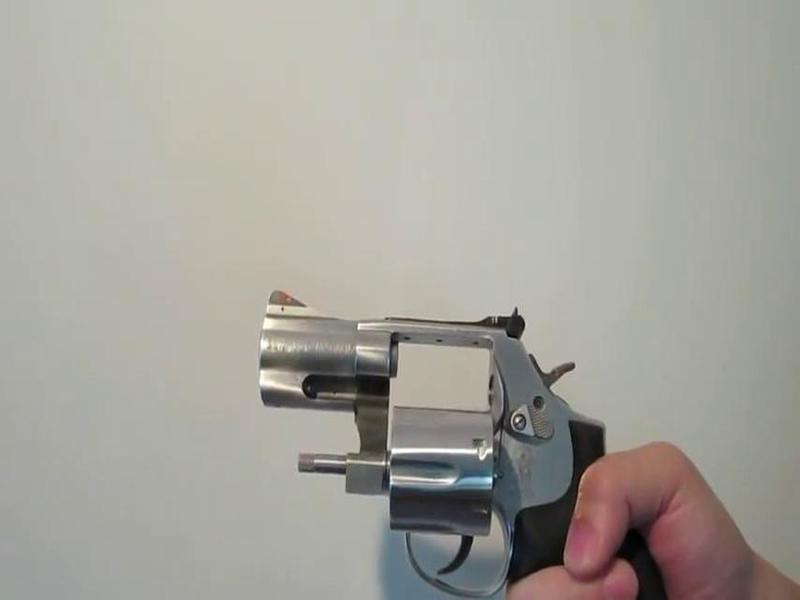Revolver: (233, 268, 653, 600)
